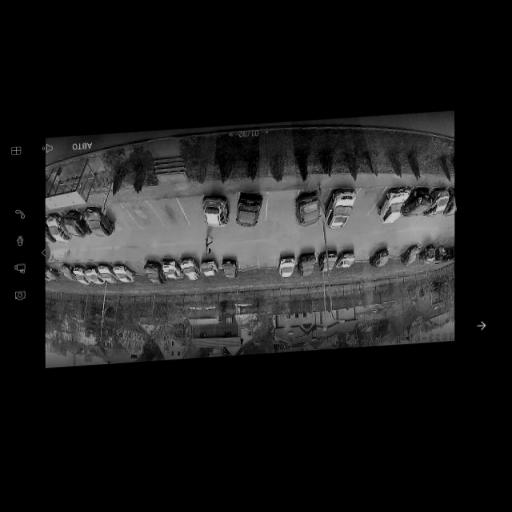busy: (375, 184, 417, 222), (324, 186, 360, 230), (230, 188, 268, 229), (401, 185, 439, 220), (292, 191, 326, 229), (78, 206, 116, 238), (198, 194, 231, 228), (60, 209, 89, 239), (429, 186, 456, 216), (139, 258, 168, 284), (107, 262, 138, 283), (274, 255, 302, 278), (65, 263, 92, 286), (45, 213, 67, 241), (175, 255, 199, 280), (366, 247, 394, 268), (418, 243, 443, 265), (297, 252, 319, 276), (218, 257, 243, 278), (160, 258, 182, 281), (334, 250, 359, 270), (400, 245, 424, 265), (319, 251, 340, 271), (58, 263, 78, 283), (200, 258, 218, 277), (44, 263, 60, 282)
free: (161, 198, 185, 230), (352, 189, 376, 220), (134, 199, 156, 232), (270, 193, 292, 225), (257, 250, 279, 276), (239, 251, 259, 276), (112, 205, 130, 232), (188, 201, 206, 227), (354, 246, 371, 268), (132, 260, 146, 282), (389, 244, 406, 258)
